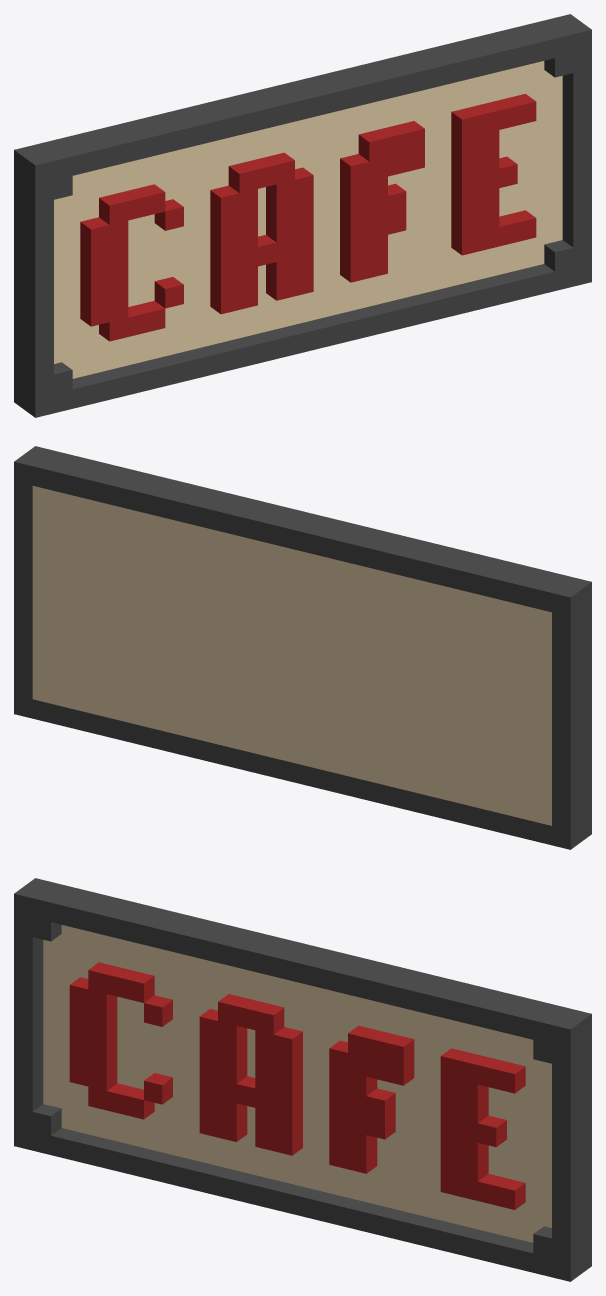
File: sign.obj
The picture shows the model from 3 angles, top to bottom: view 1: azimuth 30°, elevation 25°; view 2: azimuth 150°, elevation 25°; view 3: azimuth 330°, elevation 25°; orthographic projection.
Bounding box in the file's own units: 3 × 1.3 × 0.2.
1 material, 1 textured.
